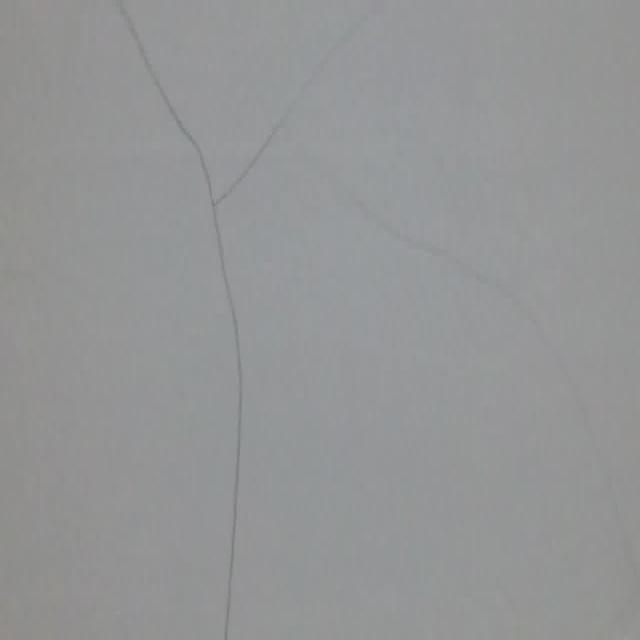Crack: (93, 0, 386, 636)
